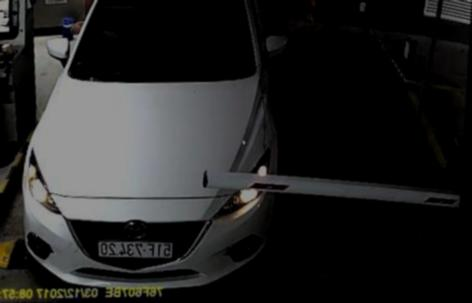License_Plate: (98, 236, 175, 259)
